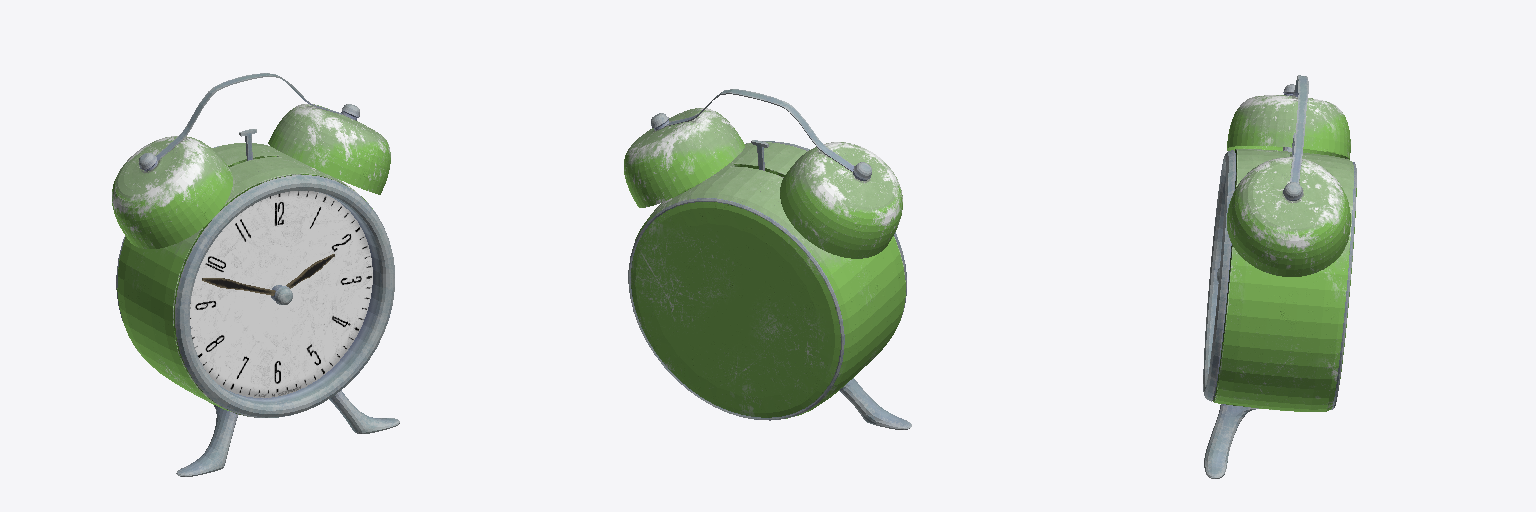
3 renders of one model, left to right at view 1: azimuth 30°, elevation 25°; view 2: azimuth 150°, elevation 25°; view 3: azimuth 270°, elevation 25°, orthographic.
Parts seen in each view (by area): view 1: Mesh; view 2: Mesh; view 3: Mesh.
Boxes of the visible parts, <box> form: Mesh: <box>112,73,399,476</box>; Mesh: <box>624,89,911,429</box>; Mesh: <box>1203,75,1356,478</box>.
Bounding box in the file's own units: 3.43 × 4.23 × 1.74.
Materials: 1 (1 with a texture image).